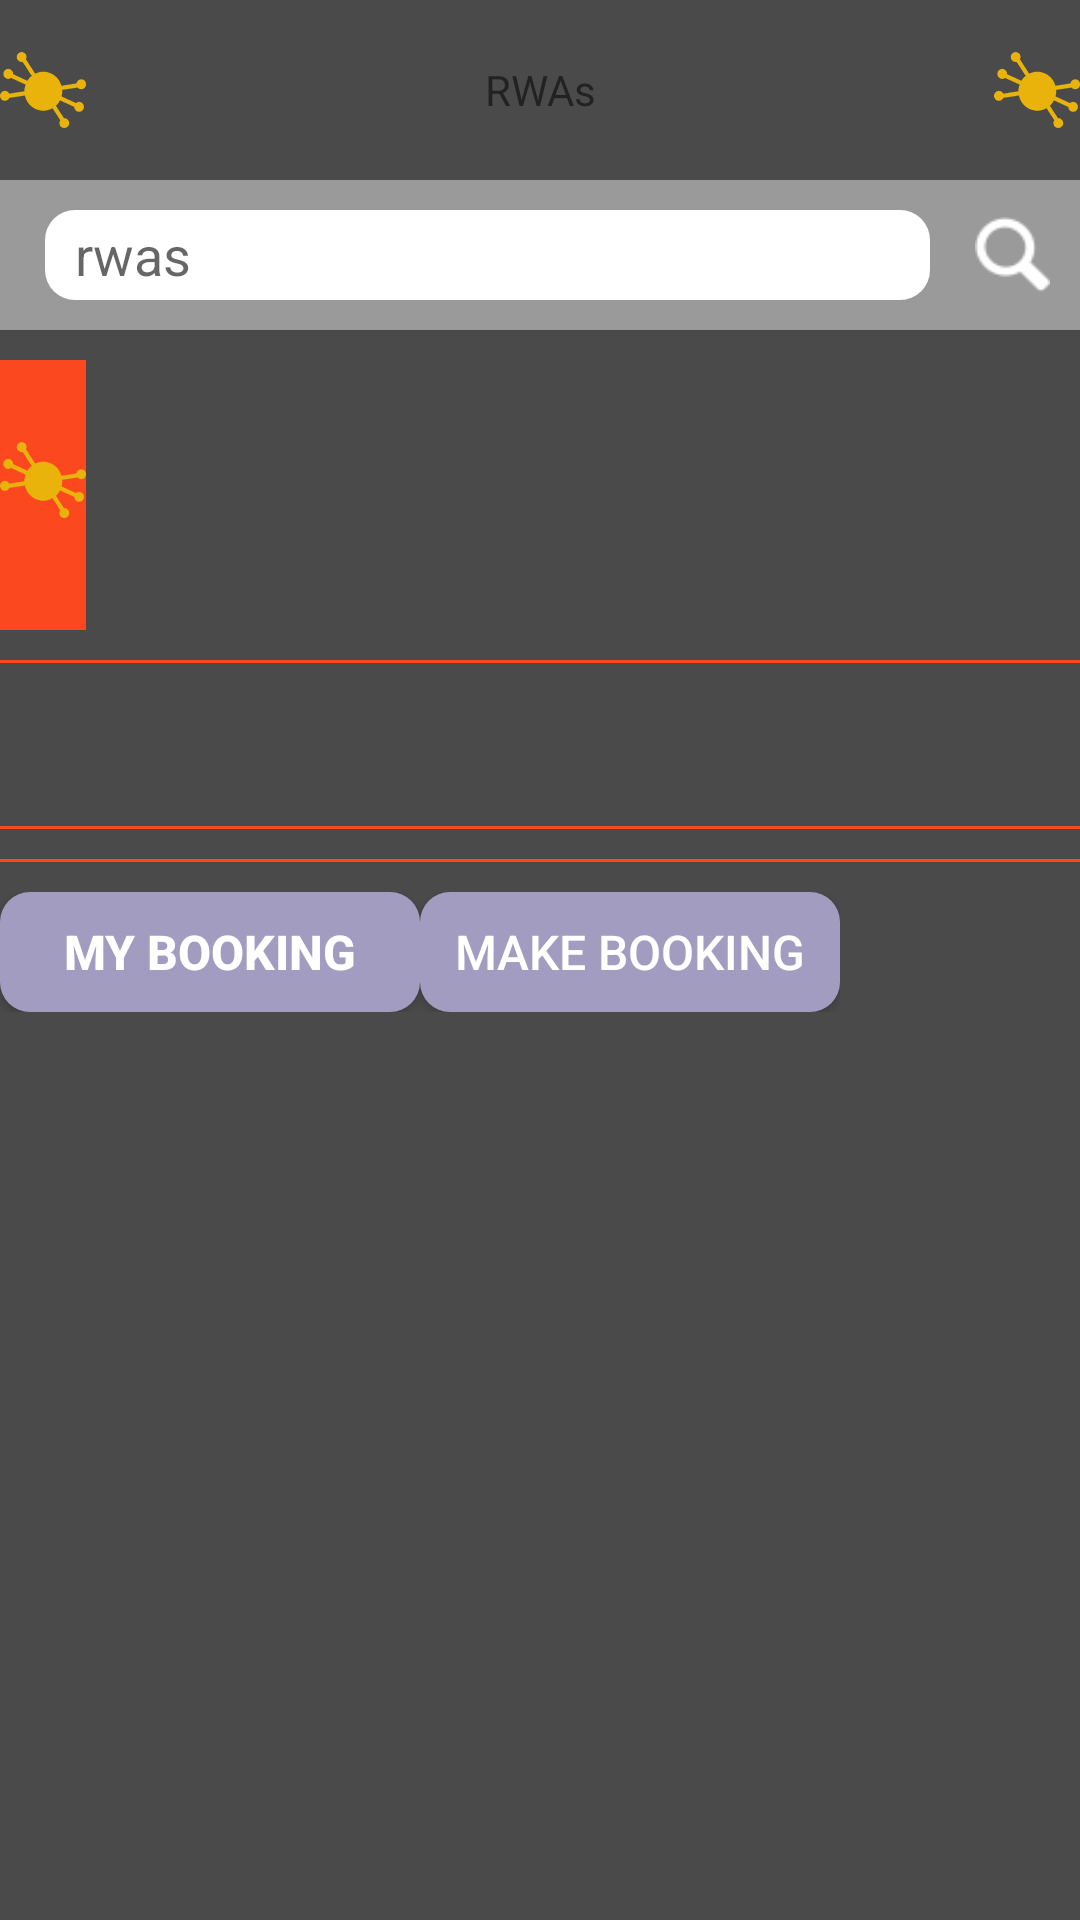

Icon click points for this 1080px x 1920px phone screenshot, format point (x, y):
search: point (1012, 254)
